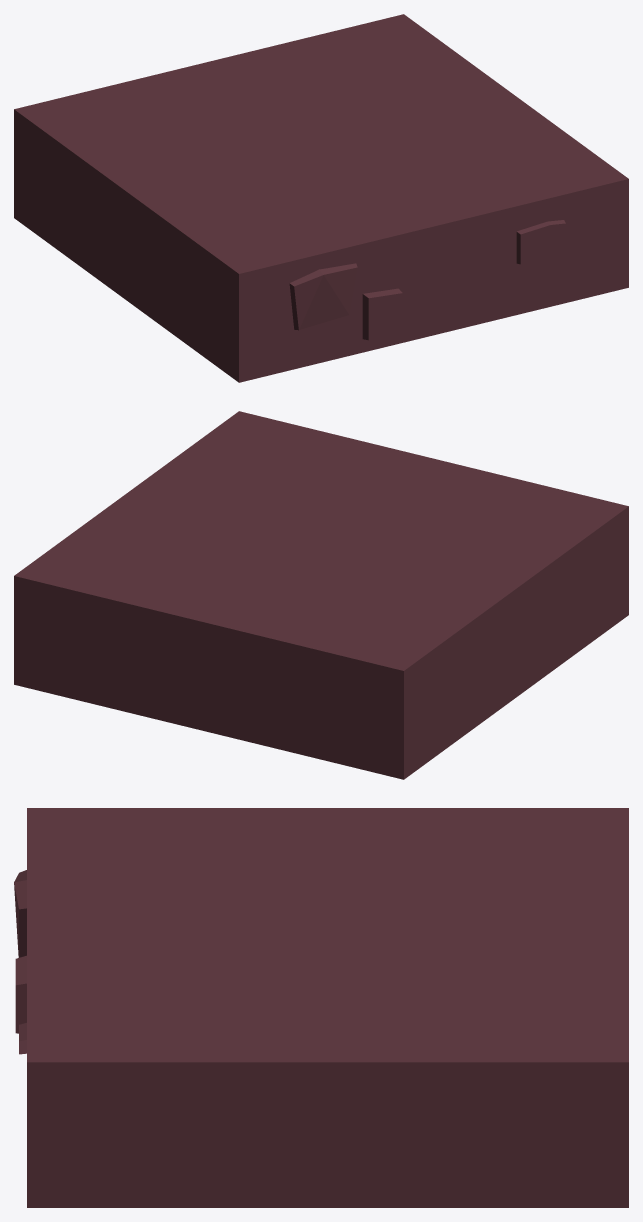
Rendered from empire-stairs-floor-3m-empire.glb.
3 views of the same model, one above another, from view 1: azimuth 30°, elevation 25°; view 2: azimuth 150°, elevation 25°; view 3: azimuth 270°, elevation 25° (orthographic). The views are drawn at different scales.
Visible parts, largest first — view 1: SM_Stairs_Floor_3m_Empire; view 2: SM_Stairs_Floor_3m_Empire; view 3: SM_Stairs_Floor_3m_Empire.
Part boxes in pixels (left/top/right/bottom): SM_Stairs_Floor_3m_Empire: left=14, top=14, right=628, bottom=382; SM_Stairs_Floor_3m_Empire: left=14, top=411, right=628, bottom=779; SM_Stairs_Floor_3m_Empire: left=14, top=808, right=628, bottom=1207.
Bounding box in the file's own units: 3 × 0.8 × 3.07.
